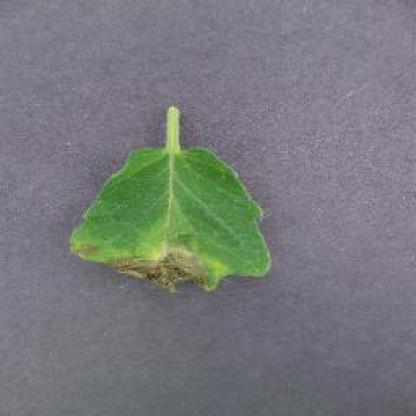bad leaf: (70, 76, 260, 312)
